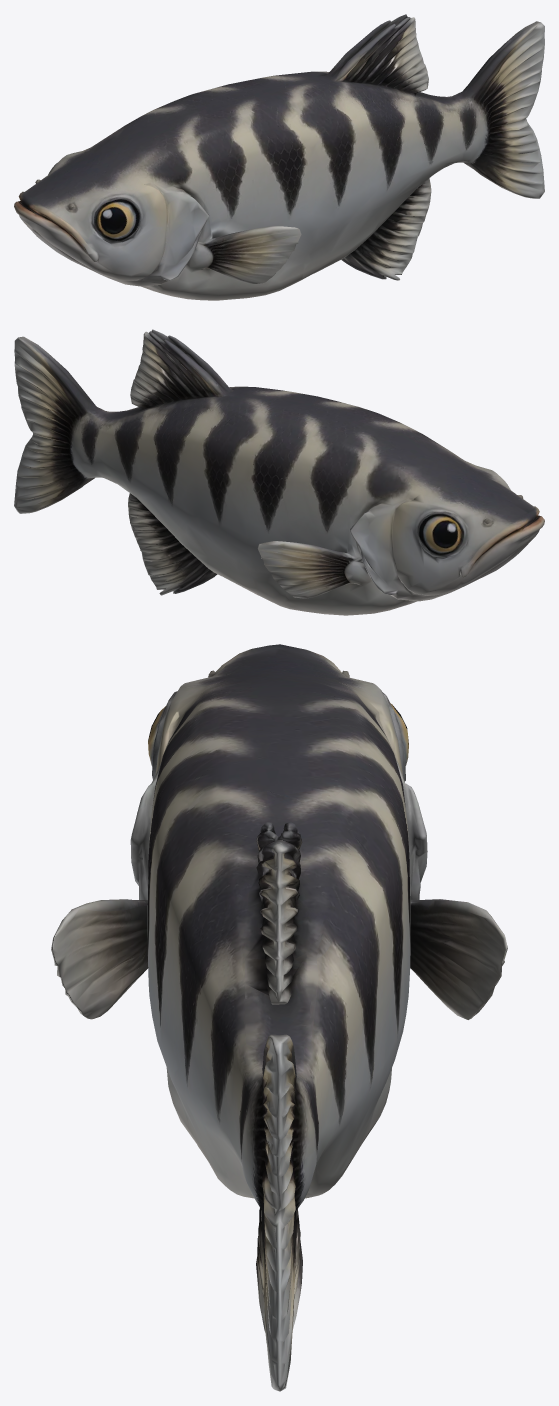
File: fish-brizgun.glb
The picture shows the model from 3 angles, top to bottom: view 1: azimuth 30°, elevation 25°; view 2: azimuth 150°, elevation 25°; view 3: azimuth 270°, elevation 25°; orthographic projection. The views are drawn at different scales.
Parts seen in each view (by area): view 1: tripo_node_caba58bd-7e47-4efd-890e-bd6dcb1ec047; view 2: tripo_node_caba58bd-7e47-4efd-890e-bd6dcb1ec047; view 3: tripo_node_caba58bd-7e47-4efd-890e-bd6dcb1ec047.
Part boxes in pixels (x1=…): tripo_node_caba58bd-7e47-4efd-890e-bd6dcb1ec047: x1=14, y1=14, x2=544, y2=300; tripo_node_caba58bd-7e47-4efd-890e-bd6dcb1ec047: x1=14, y1=329, x2=544, y2=615; tripo_node_caba58bd-7e47-4efd-890e-bd6dcb1ec047: x1=51, y1=644, x2=507, y2=1391.
Bounding box in the file's own units: 1 × 0.475 × 0.3761.
Materials: 1 (1 with a texture image).
